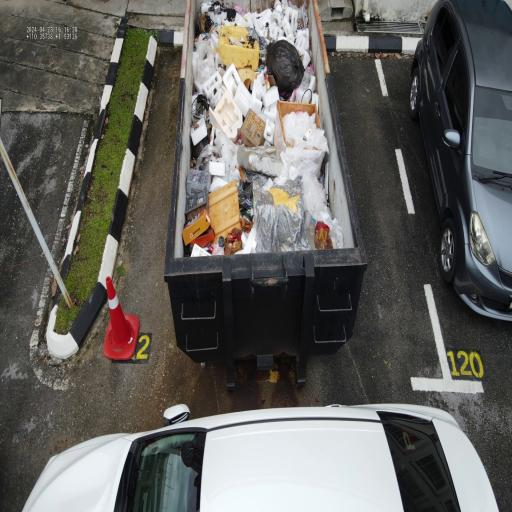Illegal: (16, 402, 501, 512)
